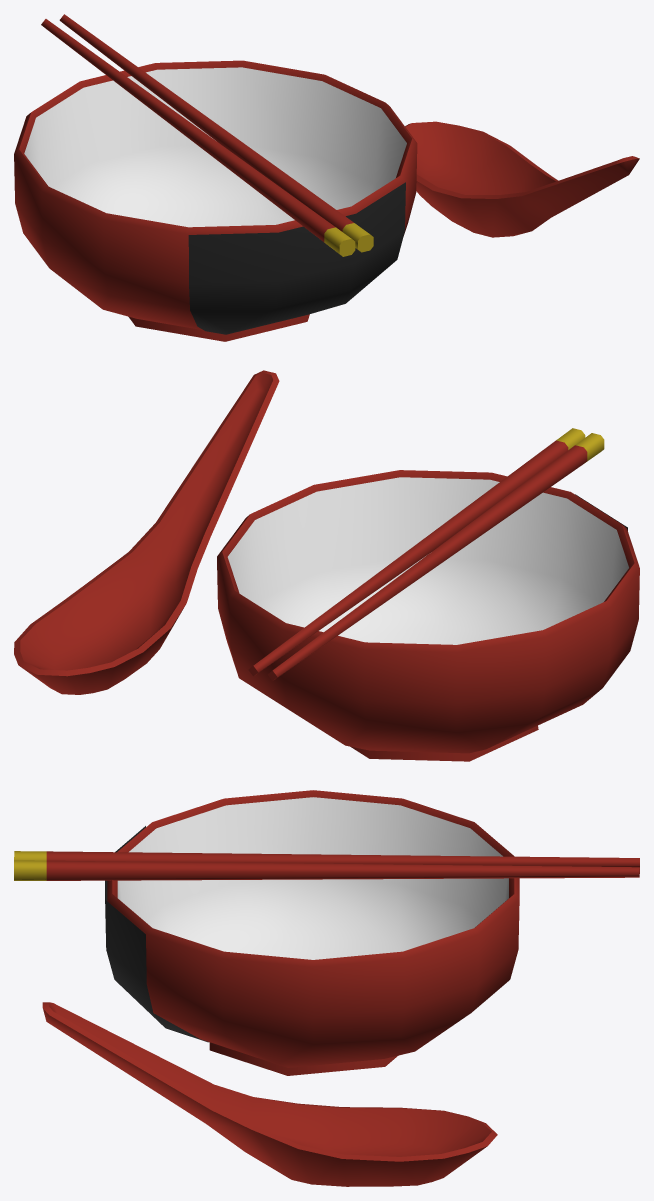
3 views of the same model, one above another, from view 1: azimuth 30°, elevation 25°; view 2: azimuth 150°, elevation 25°; view 3: azimuth 270°, elevation 25° (orthographic). The views are drawn at different scales.
Parts seen in each view (by area): view 1: ZH0306; view 2: ZH0306; view 3: ZH0306.
Part boxes in pixels (<box>): ZH0306: <box>14,14,639,341</box>; ZH0306: <box>14,370,639,761</box>; ZH0306: <box>14,790,639,1186</box>.
Bounding box in the file's own units: 21.28 × 22.01 × 6.57.
